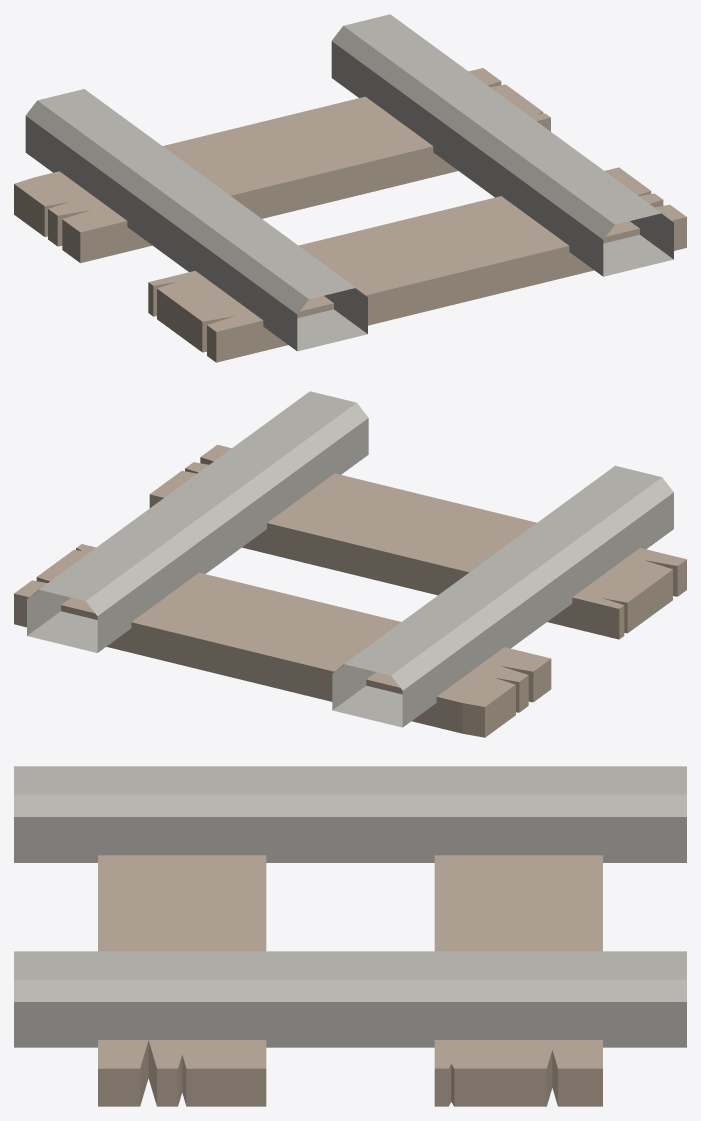
The model's file is Cave_Prop_Railway_Straight_1.glb.
3 renders of one model, top to bottom at view 1: azimuth 30°, elevation 25°; view 2: azimuth 150°, elevation 25°; view 3: azimuth 270°, elevation 25°, orthographic. The views are drawn at different scales.
Parts seen in each view (by area): view 1: Cave_Prop_Railway_Straight_1; view 2: Cave_Prop_Railway_Straight_1; view 3: Cave_Prop_Railway_Straight_1.
Boxes of the visible parts, box(x1,y1,x2,y2) form: Cave_Prop_Railway_Straight_1: box(14, 14, 686, 362); Cave_Prop_Railway_Straight_1: box(14, 391, 686, 737); Cave_Prop_Railway_Straight_1: box(14, 766, 686, 1106).
Size of the model in its own units: 0.53 by 0.0795 by 0.53.
